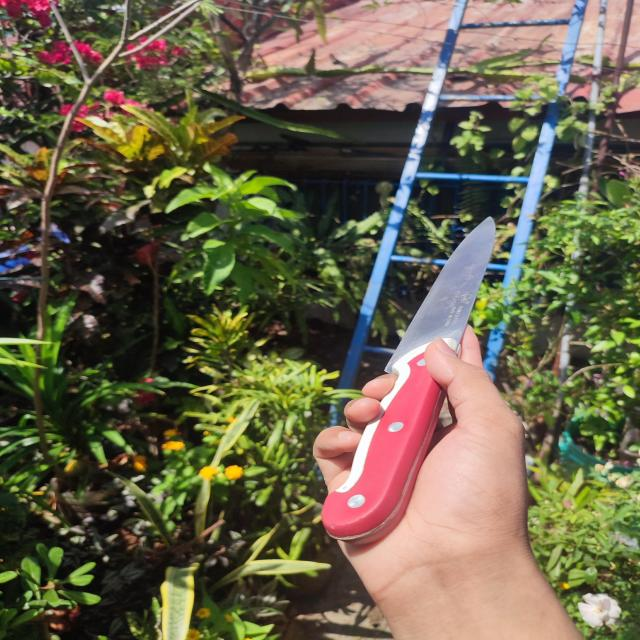knife: (321, 216, 496, 542)
